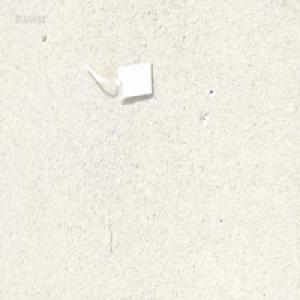LuggageTag: (82, 57, 154, 103)
